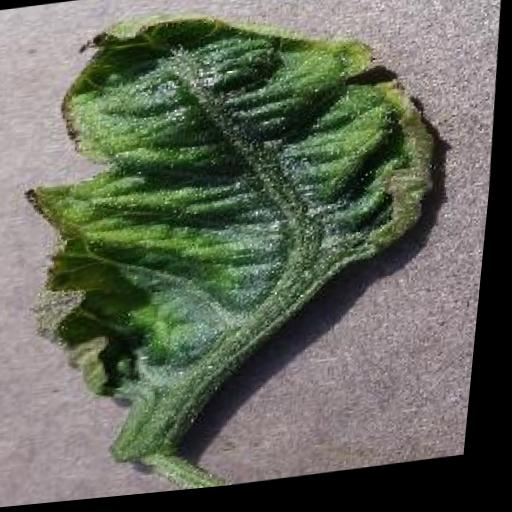Yellow Leaf Curl Virus: (6, 0, 461, 416)
